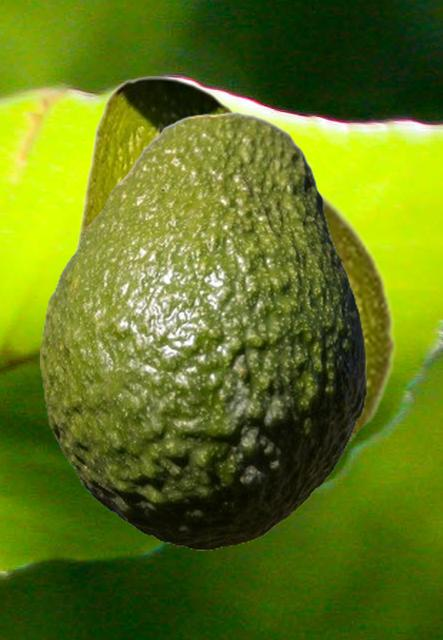avocado: (40, 111, 365, 549), (70, 76, 235, 256), (318, 183, 398, 457)
